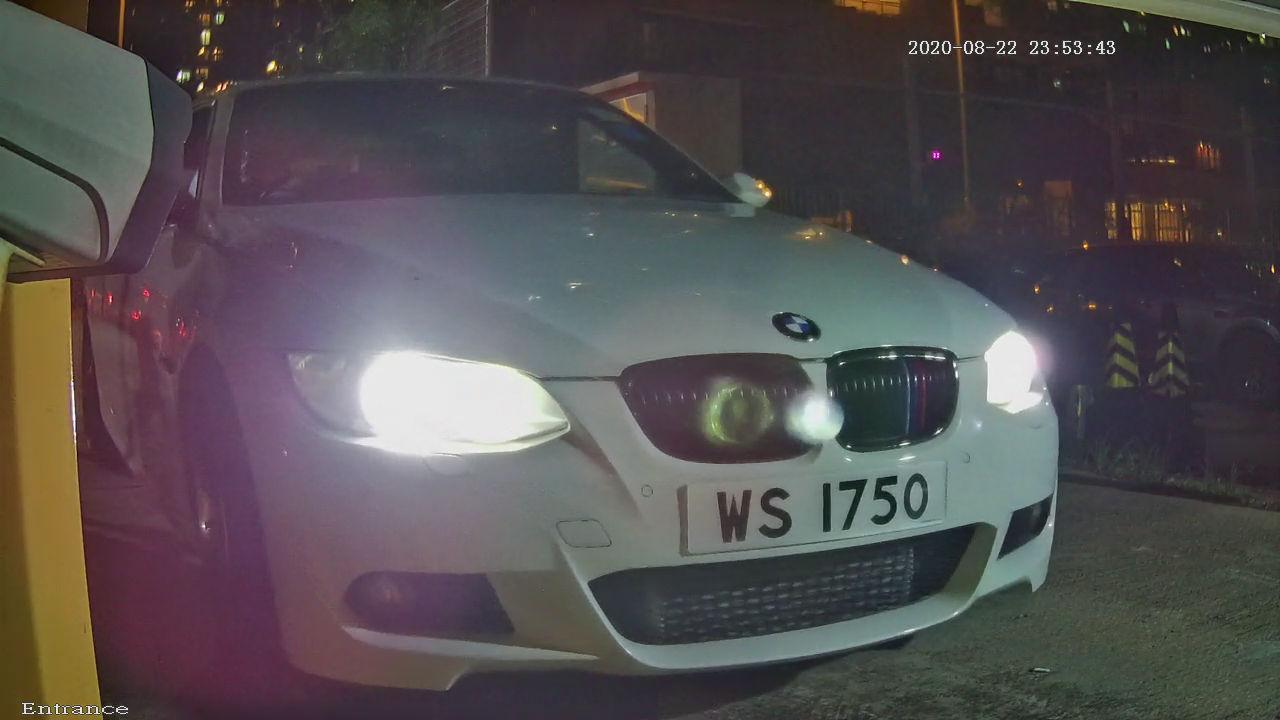Car: (52, 7, 1161, 720)
License Plate: (618, 412, 992, 611)
